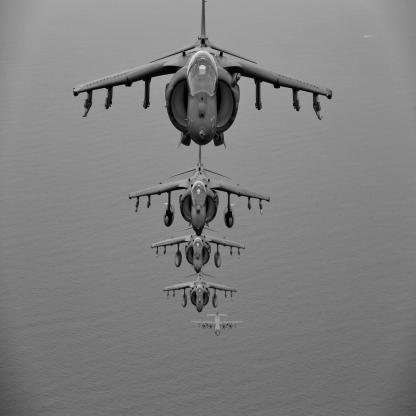AV8B: (74, 2, 333, 151), (129, 147, 271, 238), (152, 226, 247, 275), (163, 270, 238, 314)
C130: (192, 308, 245, 337)
